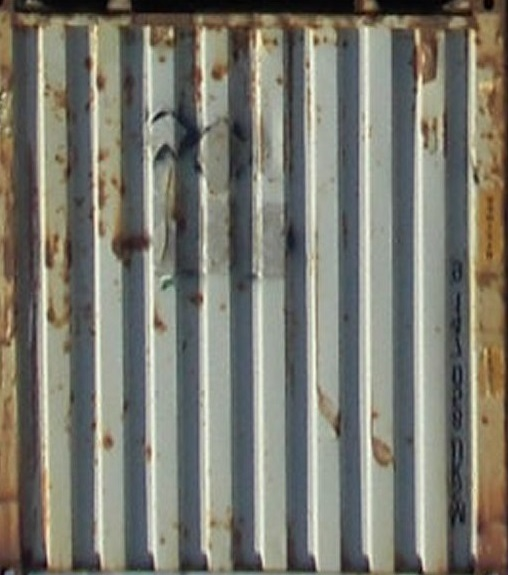container_no_door: (1, 1, 488, 575)
